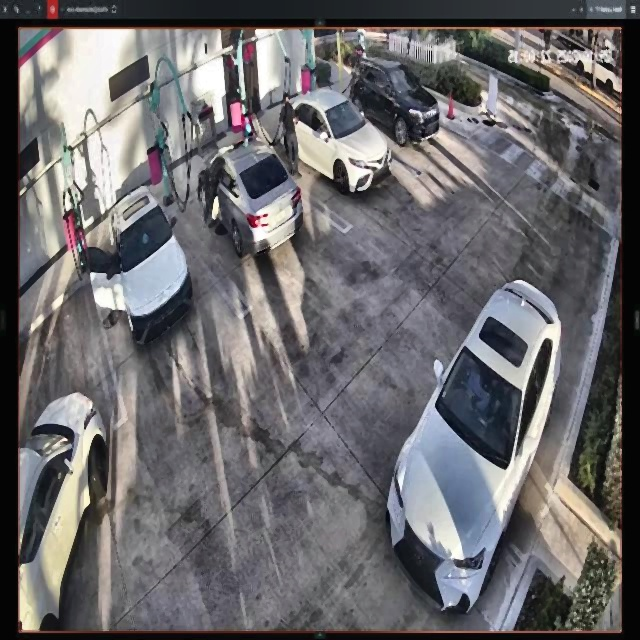Car: (387, 272, 566, 613), (87, 190, 187, 353), (199, 135, 300, 260), (279, 89, 391, 185), (353, 59, 438, 144)
